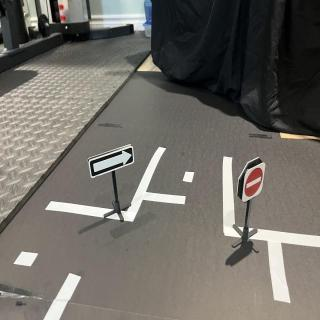sign_noentry: (242, 161, 266, 205)
sign_oneway_right: (89, 143, 137, 181)
